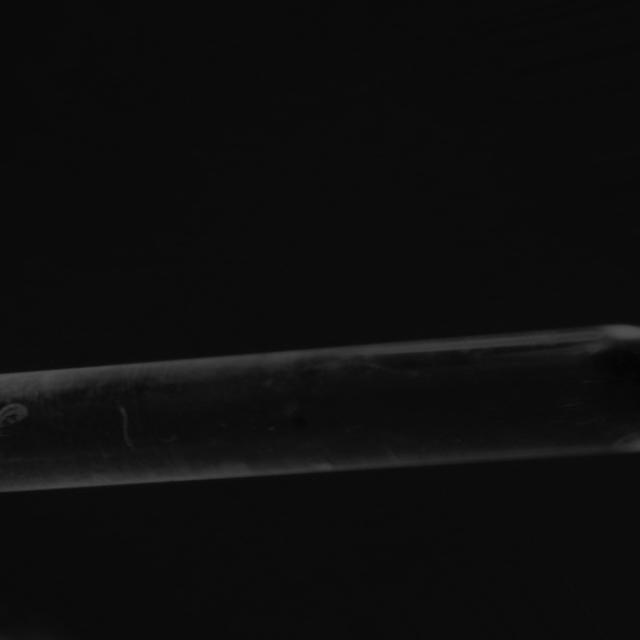larvas: (0, 403, 27, 426), (121, 405, 134, 448)
